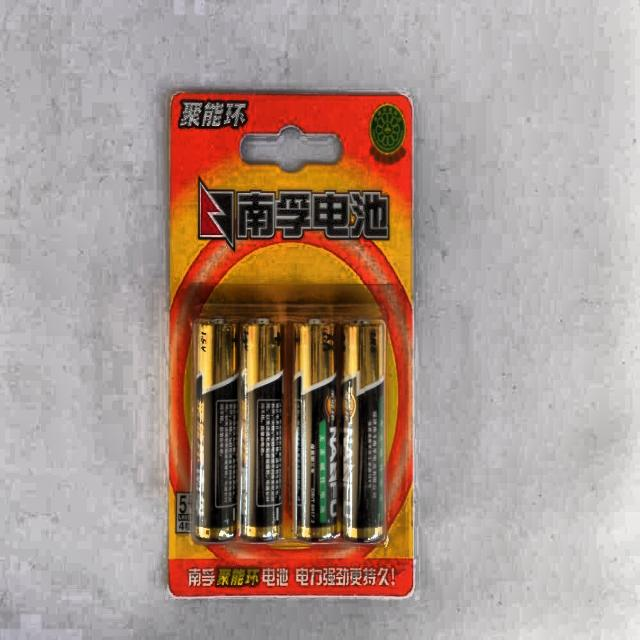Non-Valuable Waste - Batteries: (192, 320, 239, 541), (294, 321, 339, 540), (342, 321, 386, 541), (240, 320, 282, 541)
